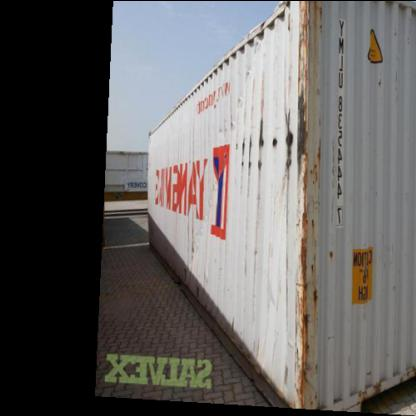Damage: (282, 6, 326, 408), (230, 112, 267, 172), (180, 200, 202, 266)
